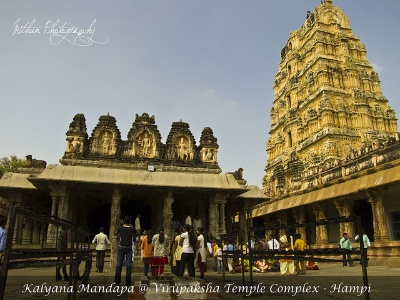gopura: (262, 1, 400, 170)
mandapa: (27, 122, 248, 252)
